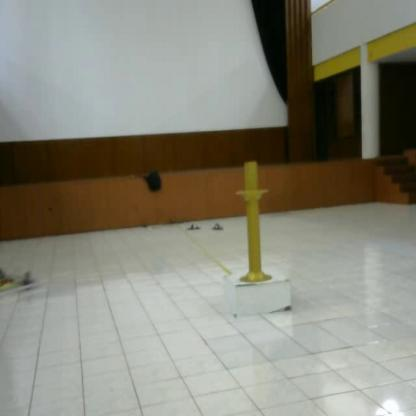pole: (233, 158, 277, 291)
